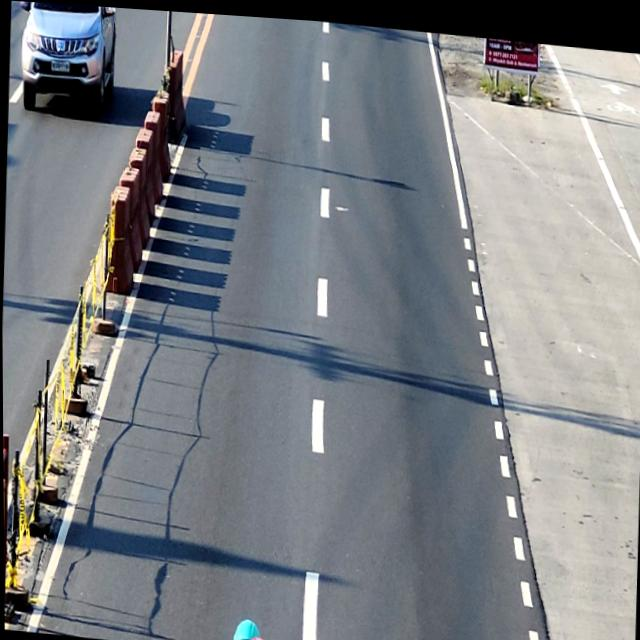Car: (14, 1, 118, 114)
License-Plate: (50, 57, 69, 73)
